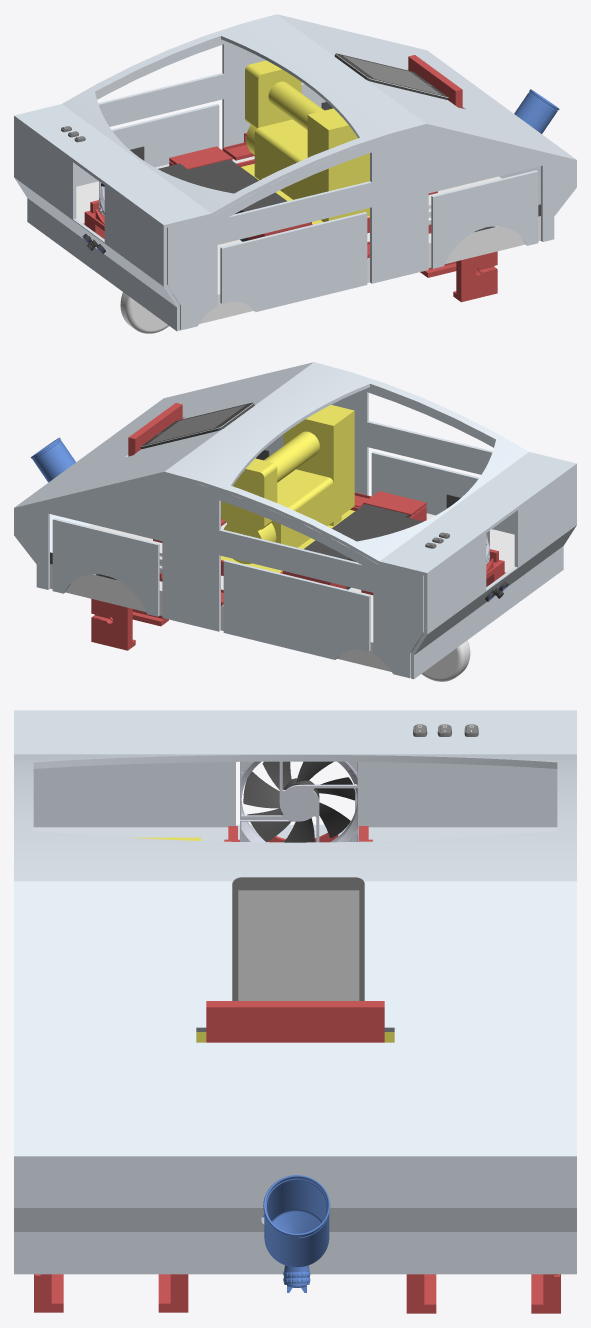
File: roadlines-robot.glb
3 views of the same model, one above another, from view 1: azimuth 30°, elevation 25°; view 2: azimuth 150°, elevation 25°; view 3: azimuth 270°, elevation 25° (orthographic). The views are drawn at different scales.
Parts seen in each view (by area): view 1: Cardboard Top-1, Cardboard Side-2, Cardboard Side-1, Compressor-1, Cardboard Surface-1, Mount-1, TAB-S2-8-1, Battery1-1, HVLPAssem-1/HVLPcup-1, Monitor Support-1, Free Wheel-1, 48V MOUNT-1 (+1 smaller); view 2: Cardboard Top-1, Cardboard Side-1, Compressor-1, Cardboard Side-2, Cardboard Surface-1, Battery1-1, Mount-3, TAB-S2-8-1, Monitor Support-1, HVLPAssem-1/HVLPcup-1, Free Wheel-1, 48V MOUNT-2; view 3: Cardboard Top-1, TAB-S2-8-1, Monitor Support-1, HVLPAssem-1/HVLPcup-1, Fan_Assembly.STEP-1/Fan.STEP-1, Fan_Assembly.STEP-1/Fan_Case.STEP-1, Mount-4, Mount-2, Mount-3, Mount-1.
Part boxes in pixels (x1=…): Cardboard Top-1: x1=14, y1=14, x2=576, y2=331; Cardboard Side-2: x1=167, y1=127, x2=573, y2=330; Cardboard Side-1: x1=76, y1=39, x2=326, y2=186; Compressor-1: x1=241, y1=60, x2=369, y2=224; Cardboard Surface-1: x1=76, y1=156, x2=540, y2=323; Mount-1: x1=453, y1=251, x2=497, y2=302; TAB-S2-8-1: x1=334, y1=53, x2=448, y2=99; Battery1-1: x1=189, y1=159, x2=286, y2=241; HVLPAssem-1/HVLPcup-1: x1=514, y1=89, x2=559, y2=133; Monitor Support-1: x1=408, y1=55, x2=462, y2=194; Free Wheel-1: x1=120, y1=292, x2=168, y2=333; 48V MOUNT-1: x1=169, y1=146, x2=232, y2=169; Cardboard Top-1: x1=14, y1=362, x2=576, y2=679; Cardboard Side-1: x1=17, y1=475, x2=423, y2=678; Compressor-1: x1=221, y1=405, x2=354, y2=572; Cardboard Side-2: x1=265, y1=387, x2=514, y2=534; Cardboard Surface-1: x1=50, y1=513, x2=514, y2=671; Battery1-1: x1=304, y1=504, x2=409, y2=589; Mount-3: x1=91, y1=599, x2=135, y2=650; TAB-S2-8-1: x1=140, y1=402, x2=254, y2=449; Monitor Support-1: x1=128, y1=403, x2=226, y2=542; HVLPAssem-1/HVLPcup-1: x1=30, y1=437, x2=75, y2=482; Free Wheel-1: x1=422, y1=640, x2=470, y2=681; 48V MOUNT-2: x1=363, y1=491, x2=426, y2=516; Cardboard Top-1: x1=14, y1=710, x2=576, y2=1274; TAB-S2-8-1: x1=232, y1=877, x2=365, y2=1000; Monitor Support-1: x1=206, y1=1001, x2=384, y2=1042; HVLPAssem-1/HVLPcup-1: x1=263, y1=1175, x2=330, y2=1267; Fan_Assembly.STEP-1/Fan.STEP-1: x1=243, y1=761, x2=355, y2=842; Fan_Assembly.STEP-1/Fan_Case.STEP-1: x1=240, y1=761, x2=358, y2=842; Mount-4: x1=406, y1=1274, x2=436, y2=1313; Mount-2: x1=158, y1=1274, x2=188, y2=1312; Mount-3: x1=531, y1=1274, x2=560, y2=1313; Mount-1: x1=34, y1=1274, x2=63, y2=1312.
Bounding box in the file's own units: 1.03 × 0.4518 × 0.568.
